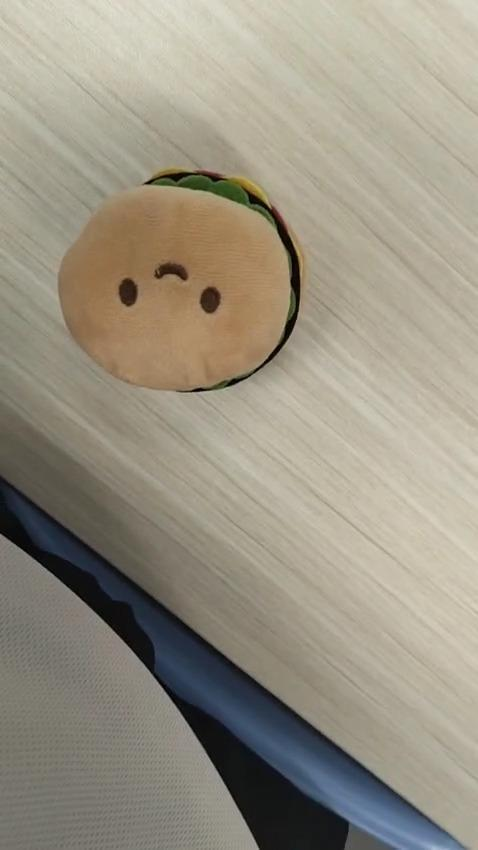hamburger: (57, 162, 302, 397)
